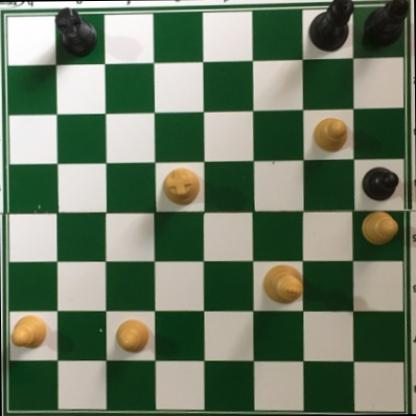black-bishop: (360, 0, 409, 48)
black-king: (306, 0, 357, 55)
black-pawn: (360, 165, 399, 201)
black-rook: (50, 3, 96, 56)
white-king: (261, 263, 304, 309)
white-pawn: (360, 208, 400, 248), (8, 311, 50, 347), (113, 316, 151, 354), (312, 117, 351, 153)
white-rook: (160, 164, 200, 205)
